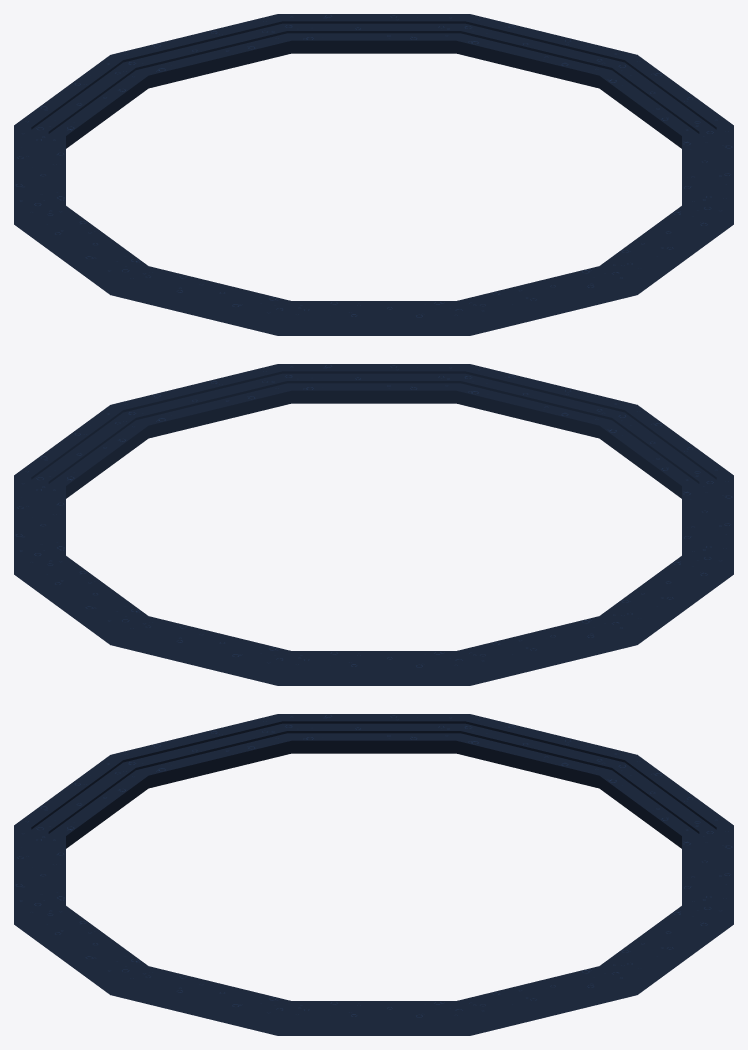
Rendered from stage05_stairs.FBX.
The picture shows the model from 3 angles, top to bottom: view 1: azimuth 30°, elevation 25°; view 2: azimuth 150°, elevation 25°; view 3: azimuth 270°, elevation 25°; orthographic projection.
Visible parts, largest first — view 1: Object007; view 2: Object007; view 3: Object007.
Boxes of the visible parts, <box> form: Object007: <box>14,14,733,335</box>; Object007: <box>14,364,733,685</box>; Object007: <box>14,714,733,1035</box>.
Size of the model in its own units: 1103 by 29.68 by 1103.
